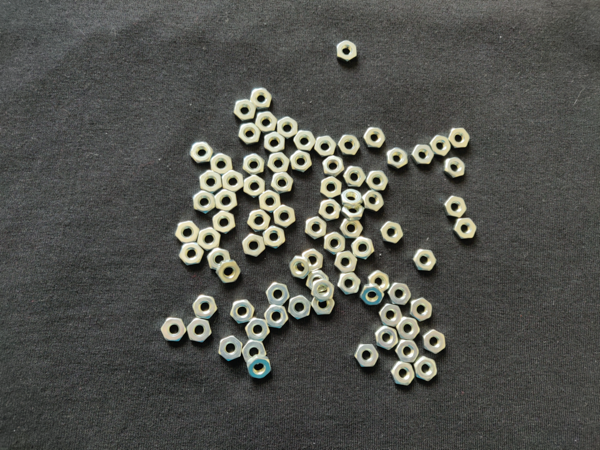nut: (187, 318, 213, 343), (161, 318, 188, 342), (391, 362, 416, 387), (219, 336, 243, 362), (230, 300, 256, 324), (264, 305, 290, 329), (414, 356, 438, 381), (375, 326, 399, 351), (193, 295, 217, 320), (175, 221, 200, 245), (245, 319, 271, 342), (216, 261, 242, 284), (422, 330, 446, 354), (288, 296, 312, 320), (180, 242, 204, 266), (395, 341, 420, 364), (267, 282, 290, 307), (355, 345, 379, 368), (397, 317, 421, 340), (410, 298, 433, 322), (247, 356, 271, 379), (207, 248, 231, 271), (198, 228, 221, 252), (352, 237, 375, 261), (212, 211, 235, 235), (379, 304, 402, 327), (388, 283, 411, 306), (312, 280, 335, 303), (243, 234, 266, 257), (263, 226, 286, 249), (214, 189, 237, 212), (338, 273, 362, 295), (290, 256, 312, 280), (194, 190, 216, 214), (190, 142, 214, 164), (242, 341, 267, 362), (453, 218, 478, 239), (443, 197, 468, 218), (361, 284, 384, 306), (306, 271, 329, 293), (302, 249, 324, 272), (335, 251, 358, 273), (248, 210, 271, 232), (274, 205, 296, 228), (259, 190, 281, 213), (200, 171, 222, 194), (243, 175, 265, 198), (319, 200, 342, 222), (340, 187, 363, 209), (344, 166, 367, 188), (271, 172, 294, 194), (294, 130, 317, 152), (238, 123, 261, 145), (413, 250, 437, 271), (368, 271, 390, 293), (305, 217, 327, 239), (222, 171, 244, 193), (323, 156, 345, 178), (290, 151, 312, 173), (243, 154, 265, 176), (234, 99, 256, 121), (312, 294, 335, 315), (325, 233, 346, 256), (210, 154, 233, 175), (321, 176, 342, 199), (267, 153, 290, 174), (411, 145, 435, 165), (381, 222, 403, 243), (444, 157, 466, 178), (449, 128, 471, 149), (387, 147, 408, 169), (364, 128, 386, 149), (315, 136, 337, 157), (264, 132, 286, 153), (256, 112, 278, 133), (251, 88, 273, 109), (338, 135, 361, 155), (340, 219, 364, 238), (337, 41, 358, 62), (362, 191, 384, 211), (278, 117, 298, 139), (342, 203, 366, 221), (430, 136, 451, 156), (366, 172, 388, 191)
